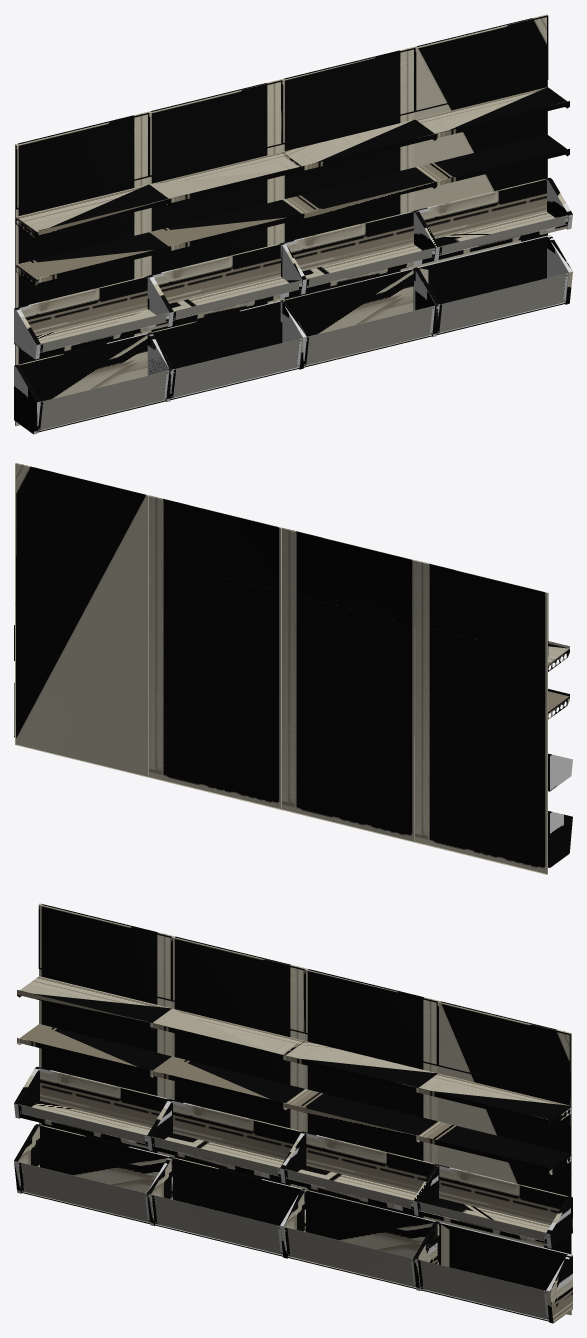
Rendered from scaffalatura.fbx.
3 renders of one model, top to bottom at view 1: azimuth 30°, elevation 25°; view 2: azimuth 150°, elevation 25°; view 3: azimuth 330°, elevation 25°, orthographic.
Parts seen in each view (by area): view 1: scaffalatura; view 2: scaffalatura; view 3: scaffalatura.
Boxes of the visible parts, box(x1,y1,x2,y2) form: scaffalatura: box(14, 14, 572, 434); scaffalatura: box(14, 463, 572, 874); scaffalatura: box(14, 903, 572, 1323).
Bounding box in the file's own units: 577 × 290 × 44.38.
